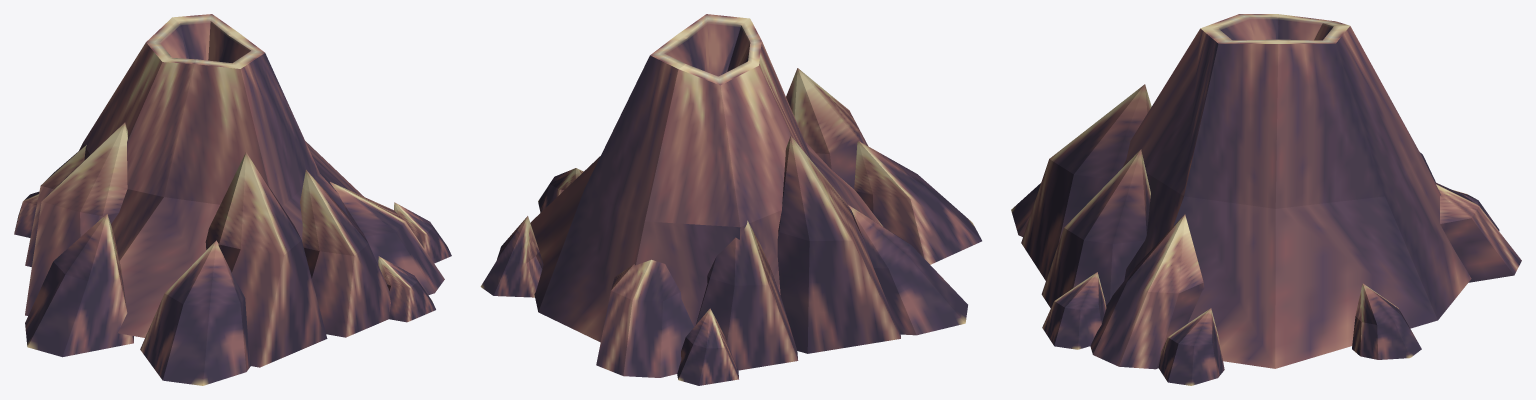
Rendered from Poly_World_Map_Mountain_01.obj.
3 views of the same model, side by side, from view 1: azimuth 30°, elevation 25°; view 2: azimuth 150°, elevation 25°; view 3: azimuth 270°, elevation 25° (orthographic). The views are drawn at different scales.
Parts seen in each view (by area): view 1: Grid.002, Grid.003; view 2: Grid.002, Grid.003; view 3: Grid.003, Grid.002.
Boxes of the visible parts, x1=… form: Grid.002: x1=14, y1=122, x2=451, y2=385; Grid.003: x1=79, y1=14, x2=363, y2=337; Grid.002: x1=480, y1=68, x2=981, y2=385; Grid.003: x1=530, y1=14, x2=883, y2=342; Grid.003: x1=1122, y1=14, x2=1471, y2=368; Grid.002: x1=1011, y1=84, x2=1521, y2=385.
Bounding box in the file's own units: 1.75 × 0.9532 × 1.71.
Materials: 1 (1 with a texture image).
